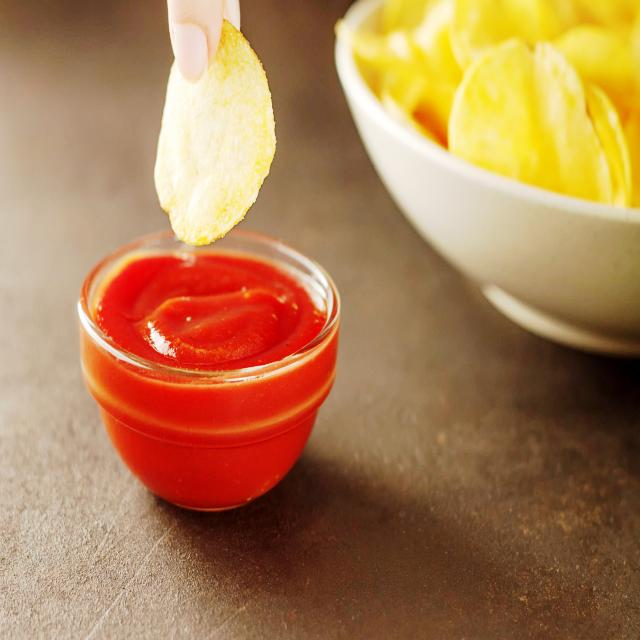ketchup: (66, 237, 342, 501)
